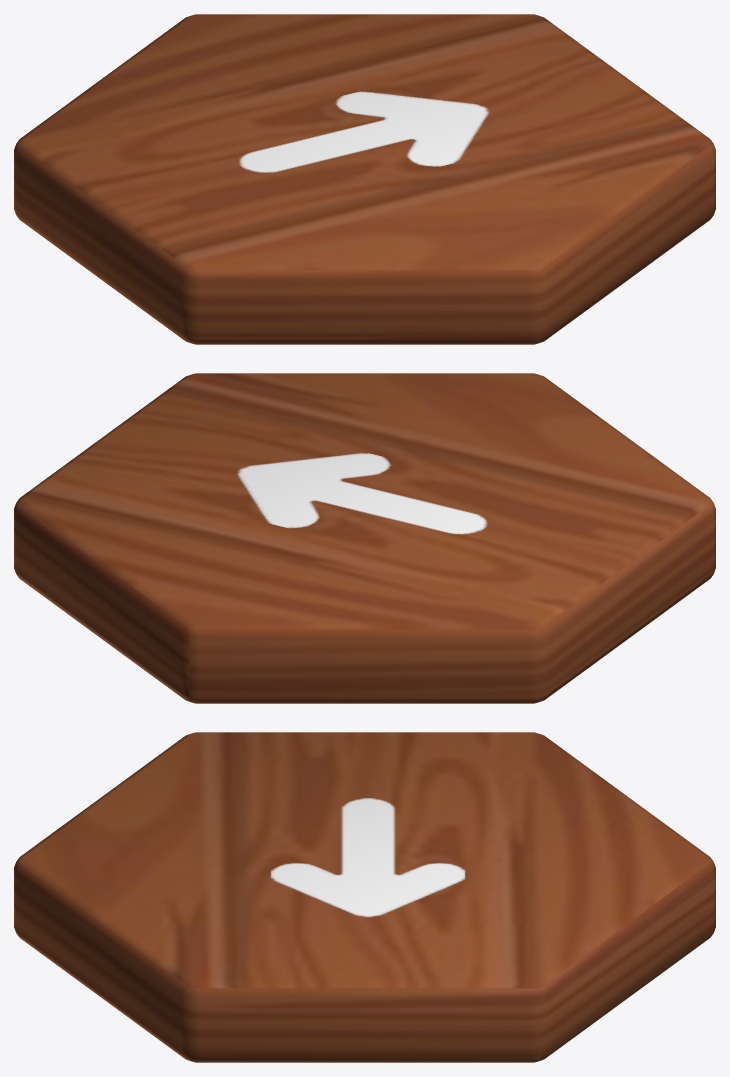
Rendered from hexa.fbx.
The picture shows the model from 3 angles, top to bottom: view 1: azimuth 30°, elevation 25°; view 2: azimuth 150°, elevation 25°; view 3: azimuth 270°, elevation 25°; orthographic projection.
Parts seen in each view (by area): view 1: Cylinder.004; view 2: Cylinder.004; view 3: Cylinder.004.
Part boxes in pixels (x1=…): Cylinder.004: x1=14, y1=14, x2=715, y2=344; Cylinder.004: x1=14, y1=373, x2=715, y2=703; Cylinder.004: x1=14, y1=732, x2=715, y2=1062.
Bounding box in the file's own units: 173 × 25.16 × 198.
1 material, 1 textured.
